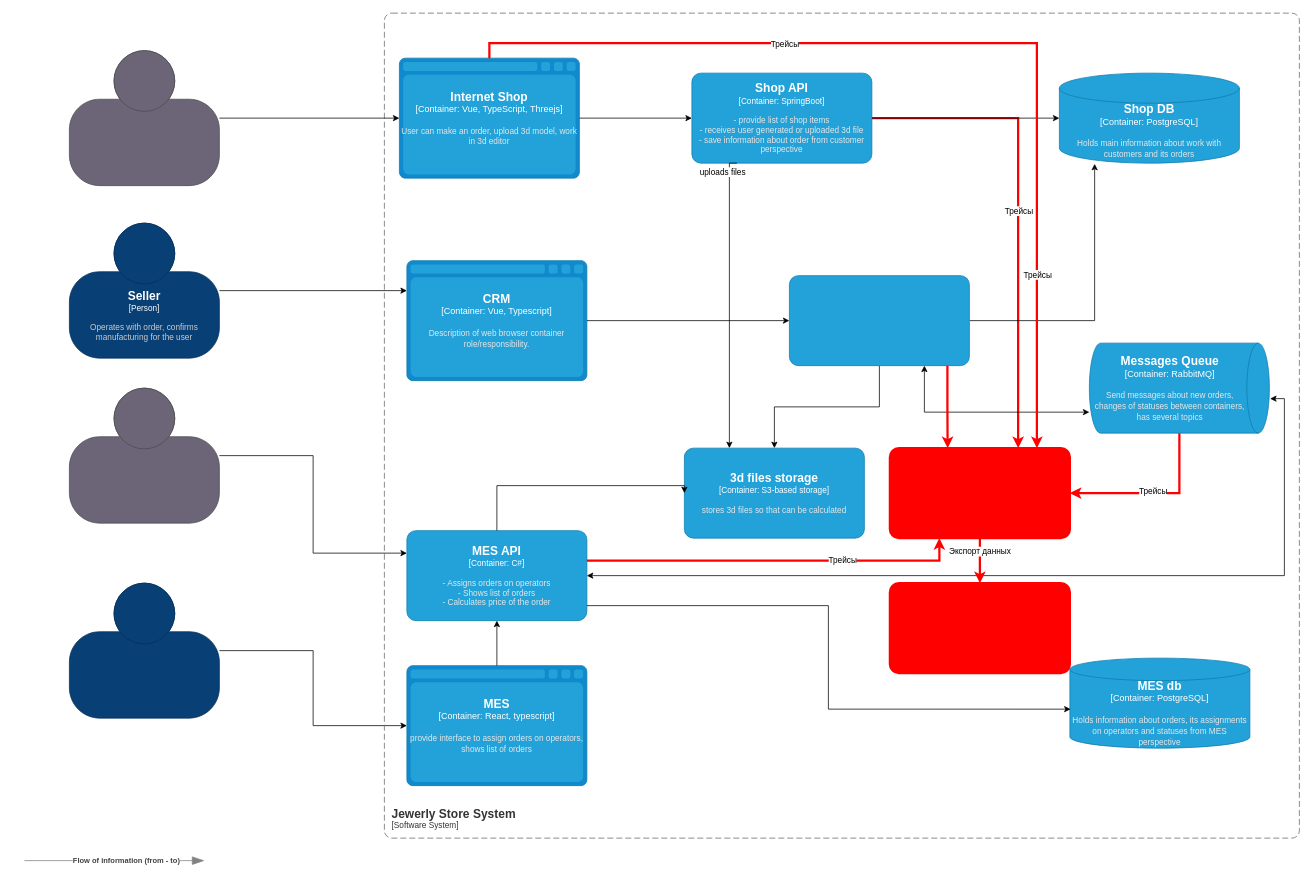
This 1313x886 diagram has some shape labels left out. Here are the shapes that lost their labels. From the top down, the box of each, then its label:
(69, 50, 219, 186): Customer [Person] Description of external person.
(789, 275, 969, 366): CRM API [Container: SpringBoot] Description of container role/responsibility.
(69, 387, 219, 523): API user [Person] Description of external person.
(888, 447, 1071, 539): OpenTelemetry Collector [Container: OTel Collector]
(888, 582, 1071, 674): Jaeger [Container: Jaeger] Система трейсинга
(69, 582, 219, 718): Operator [Person] Takes order in work, manufactures jewerly
